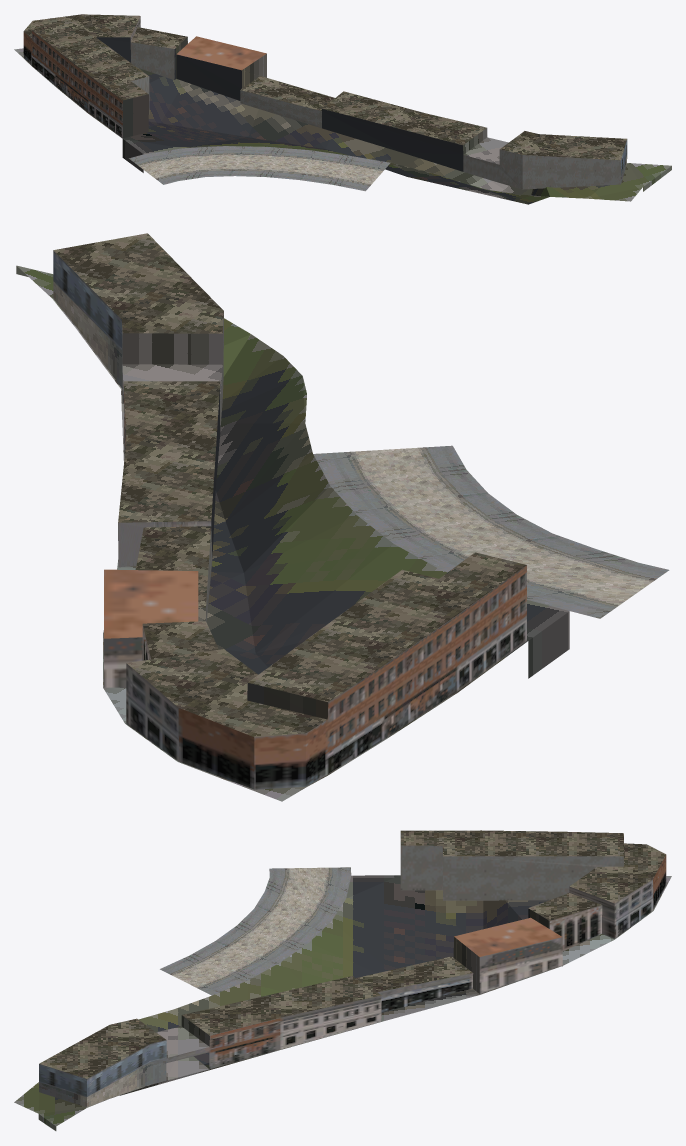
File: lodntclub02_law2.obj
3 views of the same model, one above another, from view 1: azimuth 30°, elevation 25°; view 2: azimuth 150°, elevation 25°; view 3: azimuth 270°, elevation 25° (orthographic). The views are drawn at different scales.
Parts seen in each view (by area): view 1: LODntclub02_LAw2; view 2: LODntclub02_LAw2; view 3: LODntclub02_LAw2.
Boxes of the visible parts, left/top/right/bottom form: LODntclub02_LAw2: left=14, top=14, right=671, bottom=204; LODntclub02_LAw2: left=16, top=233, right=669, bottom=801; LODntclub02_LAw2: left=14, top=830, right=671, bottom=1130.
Bounding box in the file's own units: 139 × 27.54 × 161.
Materials: 5 (5 with a texture image).
